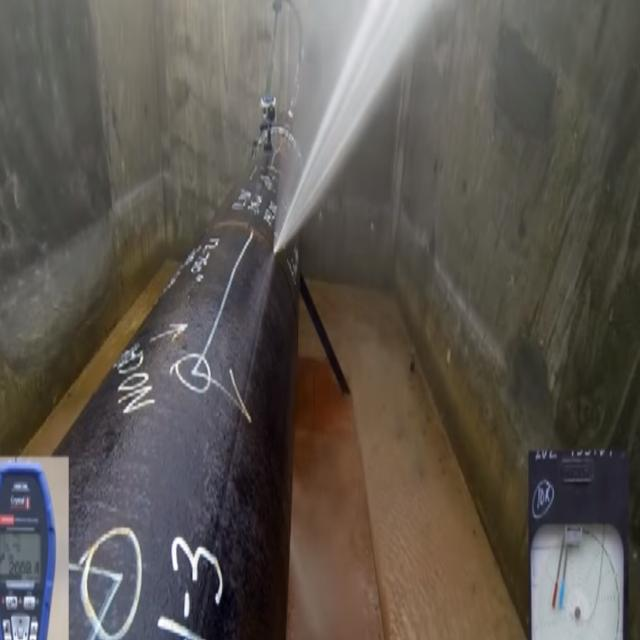leak: (271, 0, 457, 260)
